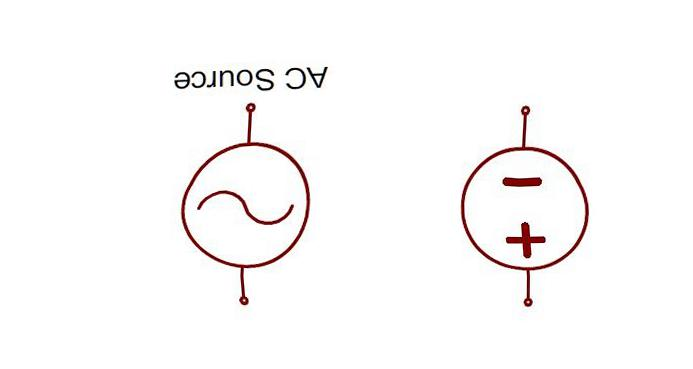Battery: (442, 113, 607, 293)
